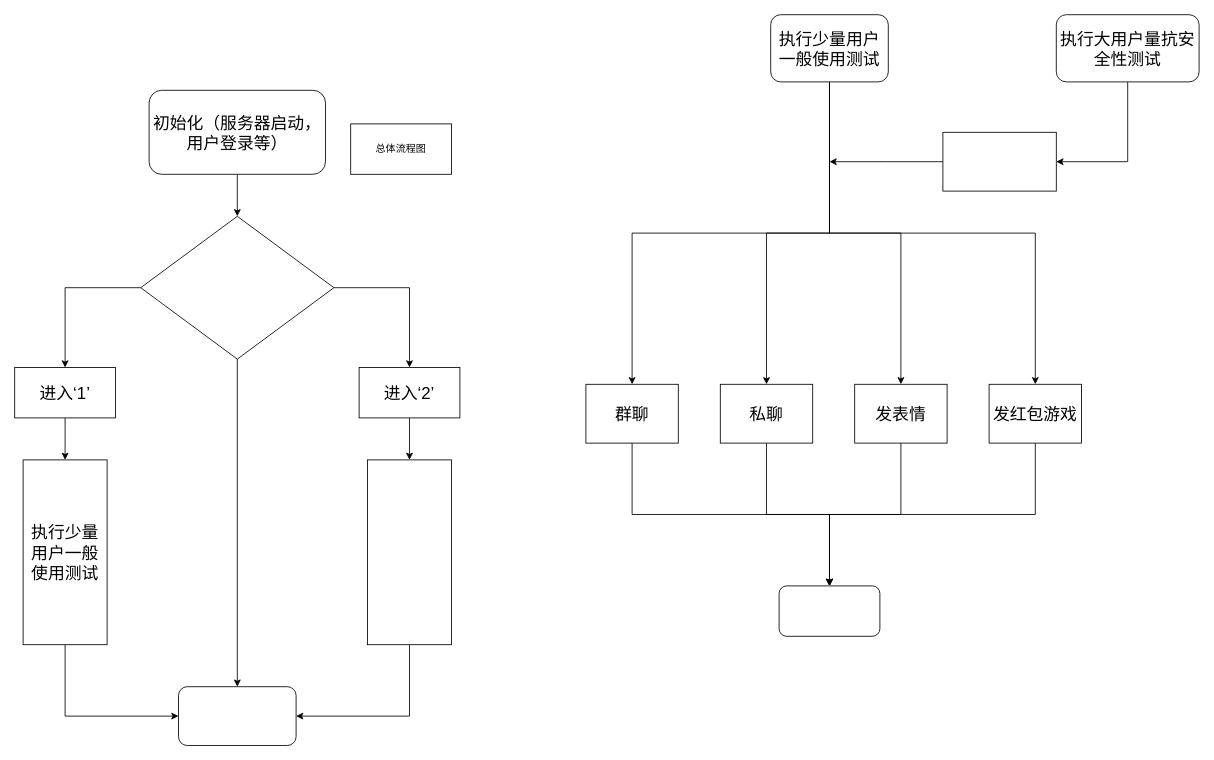
This 1214x760 diagram has some shape labels left out. Here are the shapes that lost their labels. From the top down, the centre of each, then its label:
(x=999, y=161): 生成大量模拟用户
(x=237, y=287): 1.普通测试 2.大用户量测试 其他，退出测试
(x=409, y=552): 执行大量用户抗安全性测试
(x=829, y=610): 结束测试
(x=237, y=716): 结束 测试
